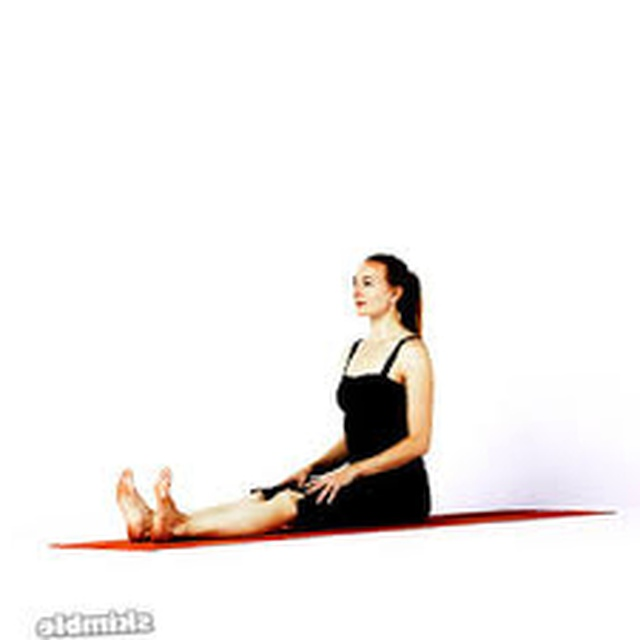Staff_Pose: (115, 253, 433, 546)
